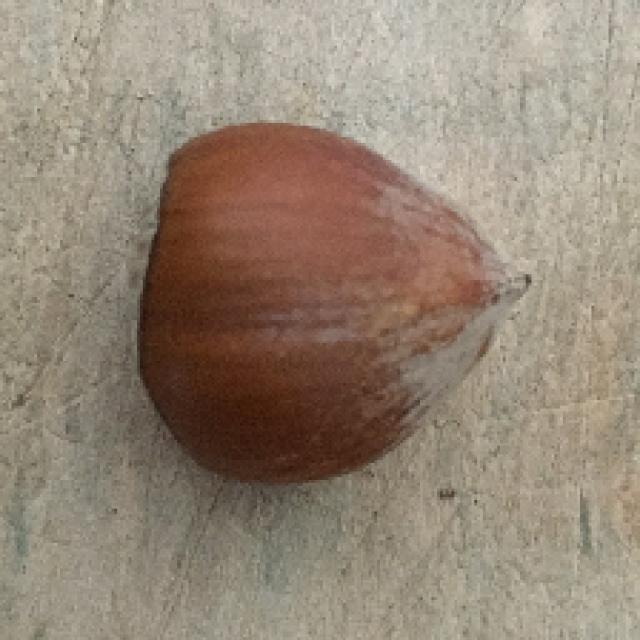qualityHazelnut: (137, 119, 530, 494)
